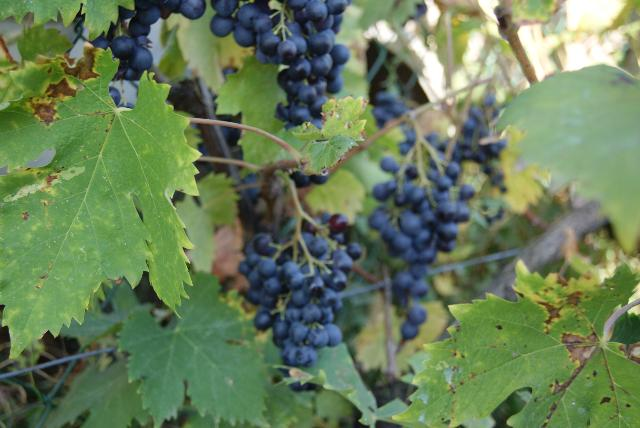grapes: (369, 158, 474, 340), (210, 0, 350, 129), (239, 232, 361, 368)
